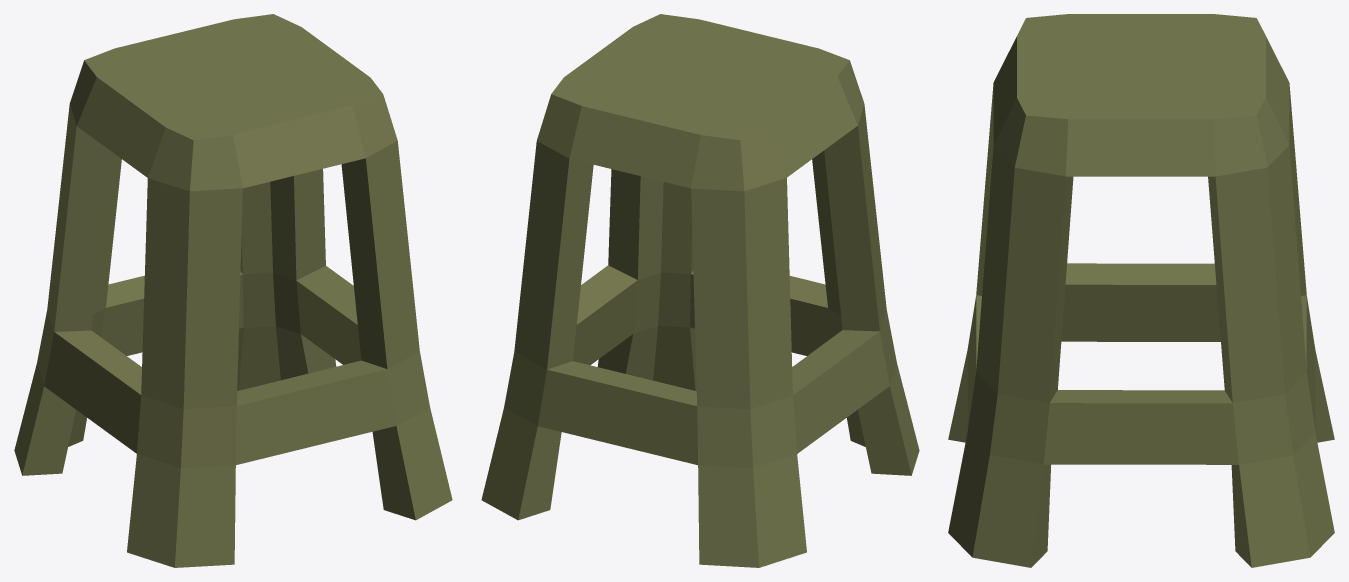
File: SM_Prop_Stool_01.glb
3 views of the same model, side by side, from view 1: azimuth 30°, elevation 25°; view 2: azimuth 150°, elevation 25°; view 3: azimuth 270°, elevation 25° (orthographic). The views are drawn at different scales.
Parts seen in each view (by area): view 1: SM_Prop_Stool_01; view 2: SM_Prop_Stool_01; view 3: SM_Prop_Stool_01.
Boxes of the visible parts, x1,y1,x2,y2 form: SM_Prop_Stool_01: [14, 14, 452, 567]; SM_Prop_Stool_01: [481, 14, 919, 567]; SM_Prop_Stool_01: [948, 14, 1334, 567].
Size of the model in its own units: 0.5527 by 0.6617 by 0.5527.
1 material, 1 textured.
